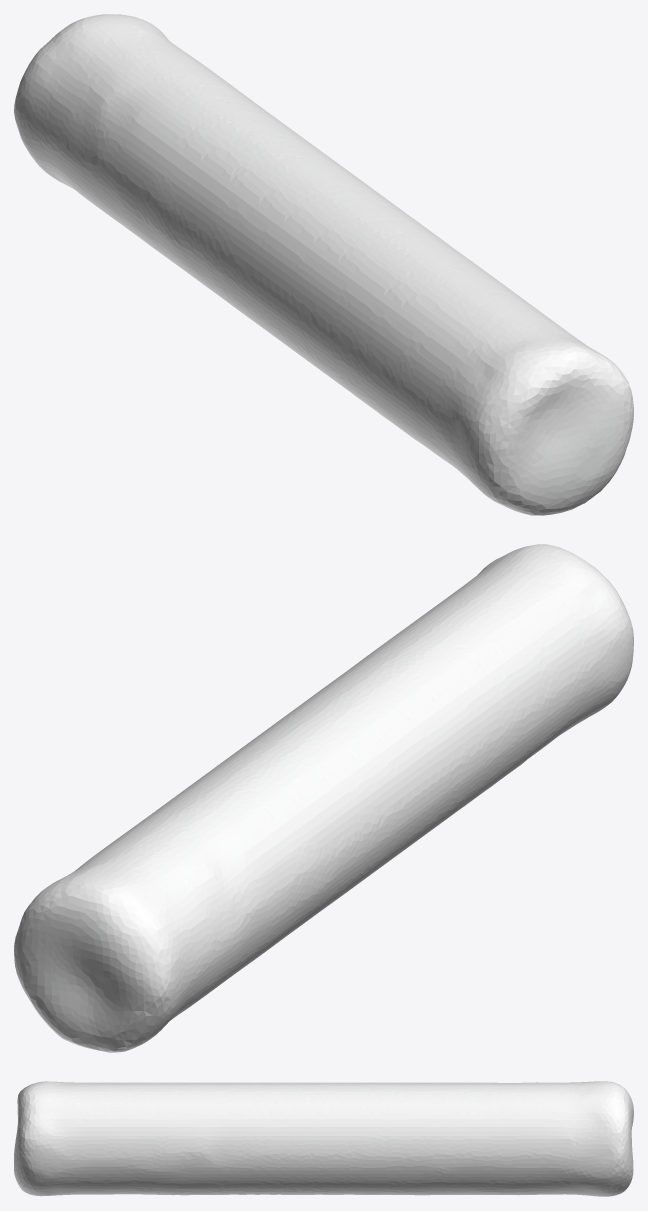
Rendered from hingePin_refined.glb.
3 renders of one model, top to bottom at view 1: azimuth 30°, elevation 25°; view 2: azimuth 150°, elevation 25°; view 3: azimuth 270°, elevation 25°, orthographic. The views are drawn at different scales.
Bounding box in the file's own units: 0.6055 × 0.6078 × 3.28.
1 material, 1 textured.
